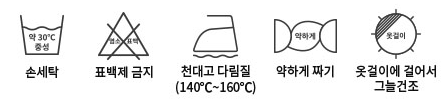KR_gentle_wring: (269, 12, 341, 58)
KR_hand_wash_30_neutral: (16, 11, 66, 60)
KR_hang_dry_in_shade: (367, 7, 424, 62)
KR_no_chlorine_bleach: (96, 11, 152, 62)
